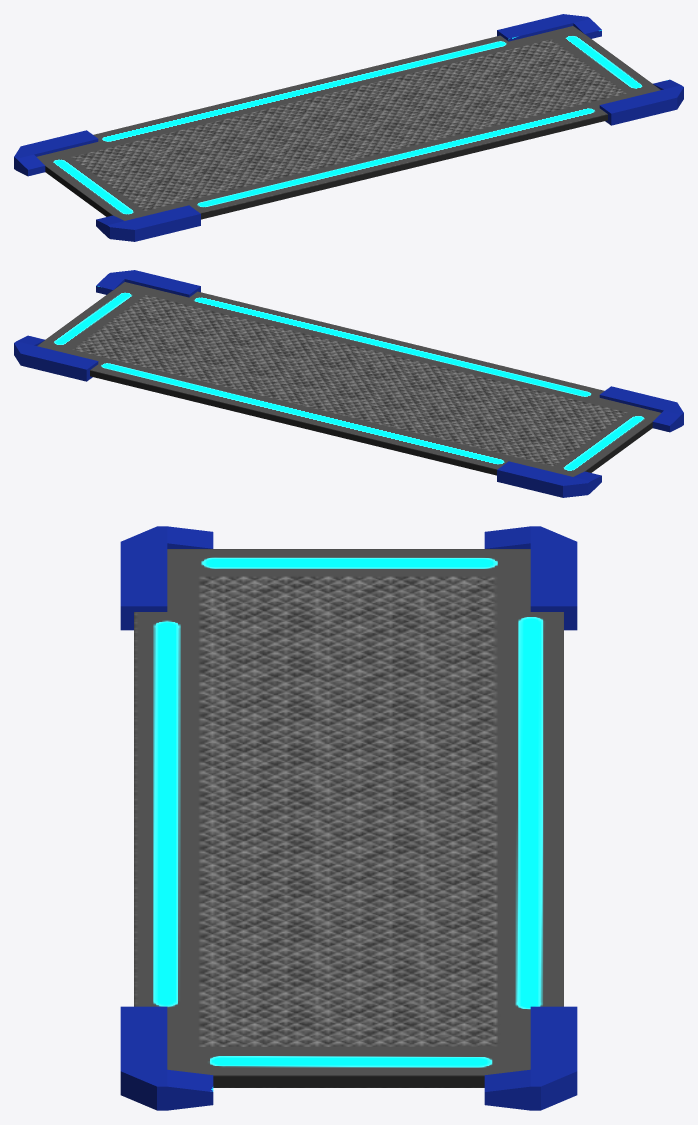
The model's file is plataforma estandar.glb.
3 views of the same model, one above another, from view 1: azimuth 30°, elevation 25°; view 2: azimuth 150°, elevation 25°; view 3: azimuth 270°, elevation 25° (orthographic). The views are drawn at different scales.
Parts seen in each view (by area): view 1: Cube, Cube.001; view 2: Cube, Cube.001; view 3: Cube, Cube.001.
Part boxes in pixels (x1,y1,x2,y2): Cube: (37, 26, 660, 220); Cube.001: (14, 14, 683, 241); Cube: (37, 282, 660, 476); Cube.001: (14, 270, 683, 497); Cube: (134, 549, 563, 1087); Cube.001: (120, 526, 577, 1110).
Size of the model in its own units: 5.17 by 0.1031 by 1.78.
Materials: 1 (1 with a texture image).
